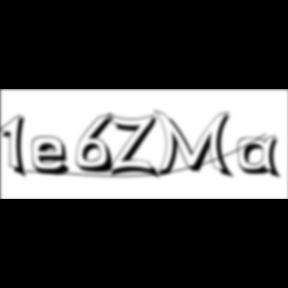1: (1, 114, 34, 182)
6: (76, 112, 122, 176)
M: (154, 108, 238, 181)
Z: (108, 112, 163, 181)
a: (238, 135, 286, 182)
e: (32, 135, 78, 178)
